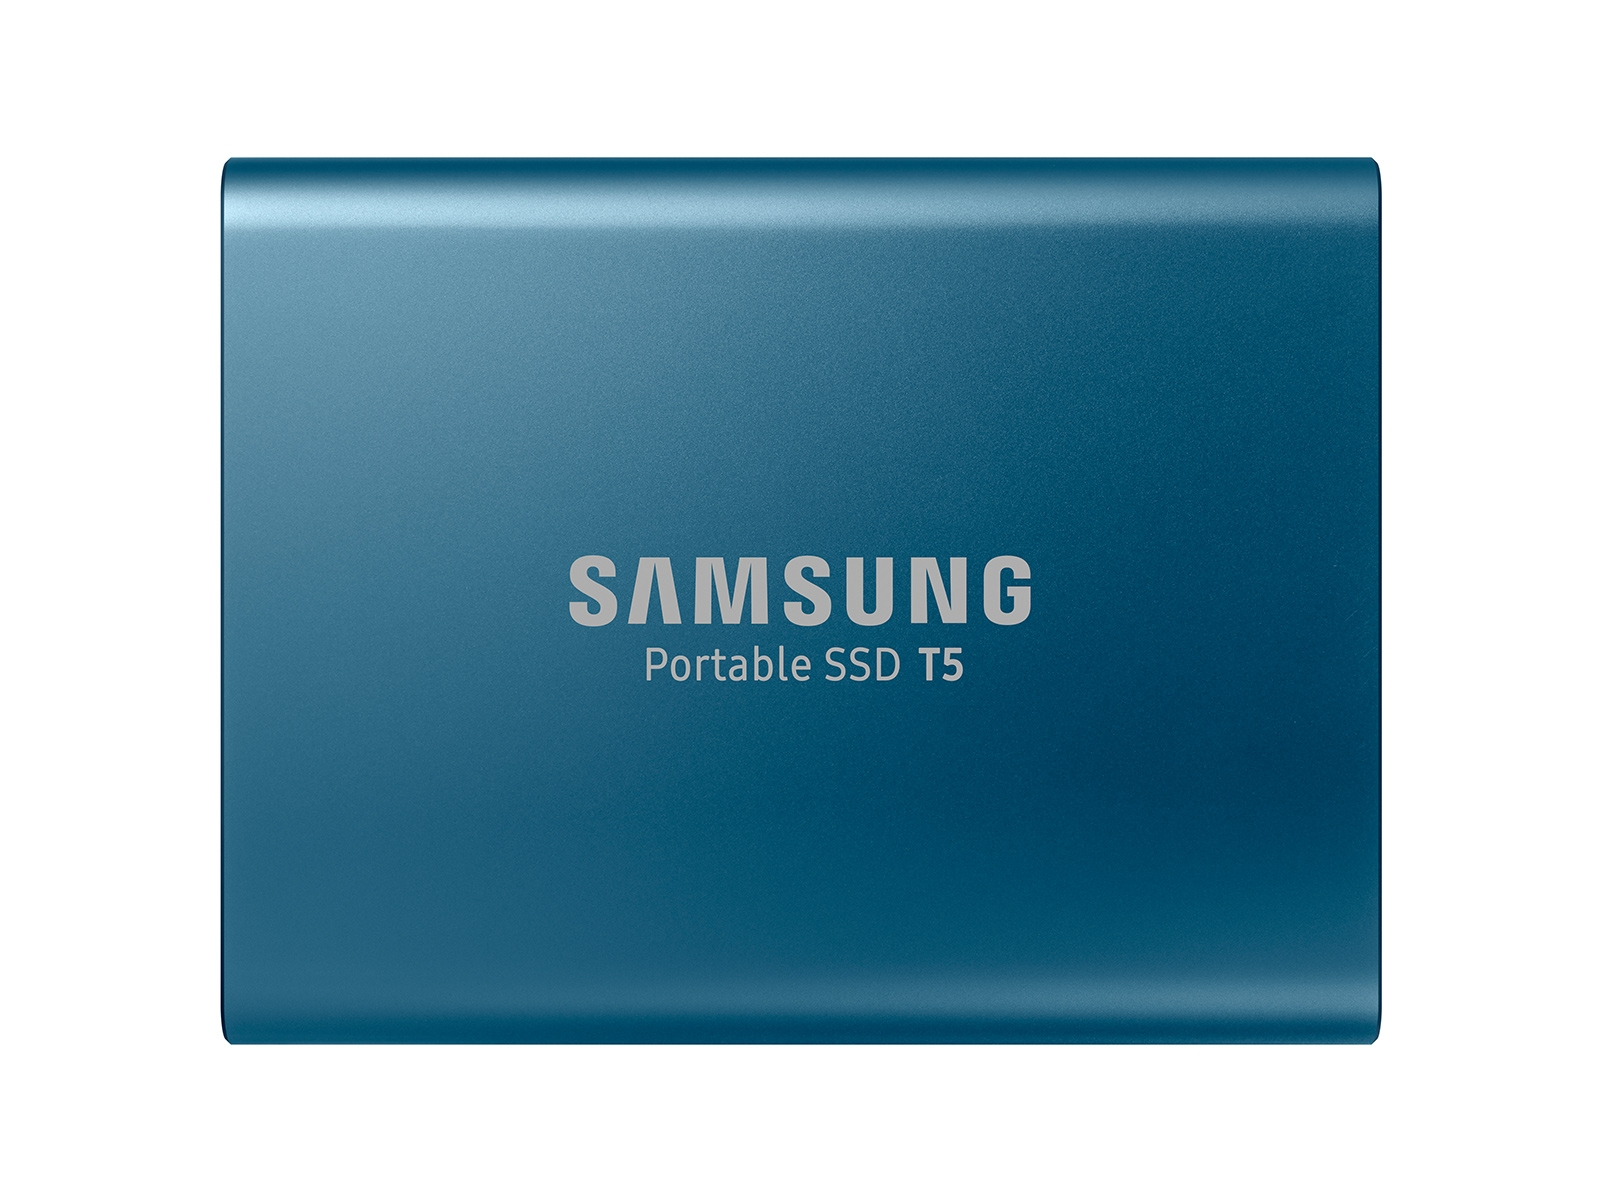samsung-hdd-240gb: (185, 149, 1432, 1054)
